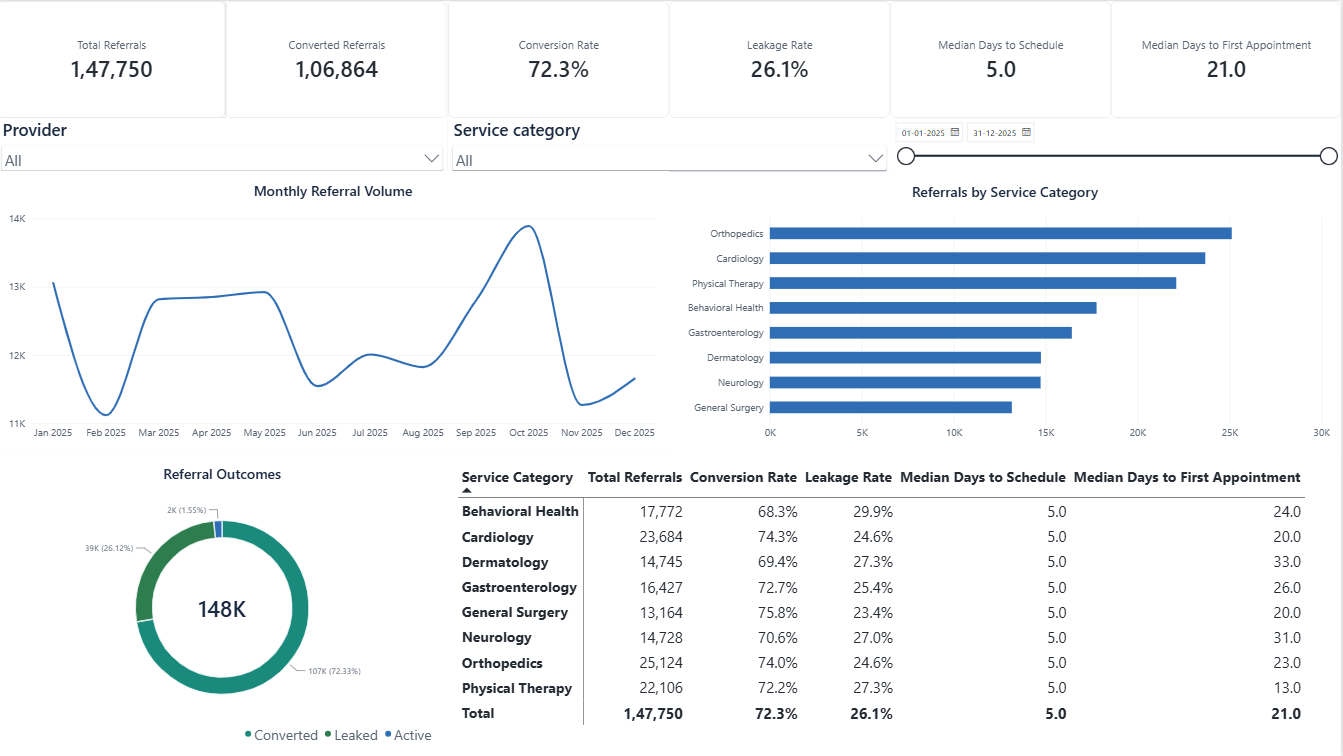

Layout of this report page (visuals, bound fields, positions):
{"tool":"powerbi","page":{"name":"Referral Overview","canvas":[1920,1080],"ordinal":0},"visuals":[{"type":"cardVisual","fields":{"Data":["Referrals.Total Referrals"]},"box":[0,0,326.5,167.7],"z":0},{"type":"cardVisual","fields":{"Data":["Referrals.Converted Referrals"]},"box":[326.5,0,315.8,167.7],"z":1000},{"type":"cardVisual","fields":{"Data":["Referrals.Conversion Rate"]},"box":[644.2,0,315.8,167.7],"z":2000},{"type":"cardVisual","fields":{"Data":["Referrals.Leakage Rate"]},"box":[960,0,315.8,167.7],"z":3000},{"type":"cardVisual","fields":{"Data":["Referrals.Median Days to Schedule"]},"box":[1275.8,0,315.8,167.7],"z":4000},{"type":"cardVisual","fields":{"Data":["Referrals.Median Days to First Appointment"]},"box":[1591.7,0,328.3,167.7],"z":5000},{"type":"slicer","fields":{"Values":["Providers.provider_name"]},"box":[0,167.3,642.7,75.1],"z":6000},{"type":"slicer","fields":{"Values":["ServiceCategories.service_category_name"]},"box":[643.6,166.7,632.8,75.6],"z":7000},{"type":"slicer","fields":{"Values":["Date.date"]},"box":[1276.4,168.2,643.6,75.6],"z":8000},{"type":"lineChart","title":"Monthly Referral Volume","fields":{"Category":["Date.year_month"],"Y":["Referrals.Total Referrals"]},"box":[0,242.3,960,404.4],"z":9000},{"type":"clusteredBarChart","title":"Referrals by Service Category","fields":{"Category":["ServiceCategories.service_category_name"],"Y":["Referrals.Total Referrals"]},"box":[960,243.9,960,402.8],"z":10000},{"type":"donutChart","title":"Referral Outcomes","fields":{"Category":["Referrals.outcome"],"Y":["Referrals.Total Referrals"]},"box":[0,646.7,643.3,433.3],"z":11000},{"type":"pivotTable","fields":{"Rows":["ServiceCategories.service_category_name"],"Values":["Referrals.Total Referrals","Referrals.Conversion Rate","Referrals.Leakage Rate","Referrals.Median Days to Schedule","Referrals.Median Days to First Appointment"]},"box":[643.3,646.7,1276.7,433.3],"z":12000}]}

Visuals, with their boxes in screenshot pixels (x1, y1, x2, y2), scaled from the page's 1920x1080 canvas onto the 1343x756 screenshot:
cardVisual - Referrals.Total Referrals: {"x1": 0, "y1": 0, "x2": 228, "y2": 117}
cardVisual - Referrals.Converted Referrals: {"x1": 228, "y1": 0, "x2": 449, "y2": 117}
cardVisual - Referrals.Conversion Rate: {"x1": 451, "y1": 0, "x2": 672, "y2": 117}
cardVisual - Referrals.Leakage Rate: {"x1": 672, "y1": 0, "x2": 892, "y2": 117}
cardVisual - Referrals.Median Days to Schedule: {"x1": 892, "y1": 0, "x2": 1113, "y2": 117}
cardVisual - Referrals.Median Days to First Appointment: {"x1": 1113, "y1": 0, "x2": 1342, "y2": 117}
slicer - Providers.provider_name: {"x1": 0, "y1": 117, "x2": 450, "y2": 170}
slicer - ServiceCategories.service_category_name: {"x1": 450, "y1": 117, "x2": 893, "y2": 170}
slicer - Date.date: {"x1": 893, "y1": 118, "x2": 1342, "y2": 171}
"Monthly Referral Volume" lineChart: {"x1": 0, "y1": 170, "x2": 672, "y2": 453}
"Referrals by Service Category" clusteredBarChart: {"x1": 672, "y1": 171, "x2": 1342, "y2": 453}
"Referral Outcomes" donutChart: {"x1": 0, "y1": 453, "x2": 450, "y2": 755}
pivotTable - ServiceCategories.service_category_name x Referrals.Total Referrals: {"x1": 450, "y1": 453, "x2": 1342, "y2": 755}
